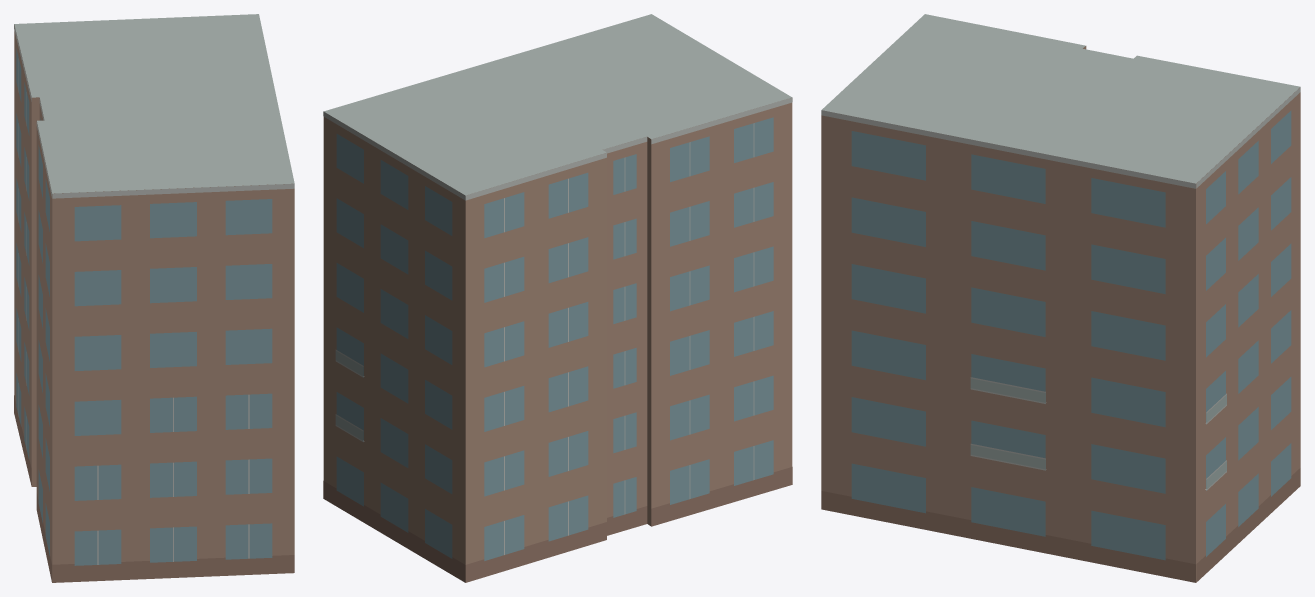
The model's file is survey-upis-32901915.glb.
The picture shows the model from 3 angles, left to right: view 1: azimuth 30°, elevation 25°; view 2: azimuth 150°, elevation 25°; view 3: azimuth 270°, elevation 25°; orthographic projection. The views are drawn at different scales.
Parts seen in each view (by area): view 1: survey-upis-32901915.tmp; view 2: survey-upis-32901915.tmp; view 3: survey-upis-32901915.tmp.
Part boxes in pixels (x1=…): survey-upis-32901915.tmp: x1=14, y1=14, x2=294, y2=582; survey-upis-32901915.tmp: x1=323, y1=14, x2=792, y2=582; survey-upis-32901915.tmp: x1=821, y1=14, x2=1300, y2=582.
Bounding box in the file's own units: 16.96 × 18.6 × 20.25.
